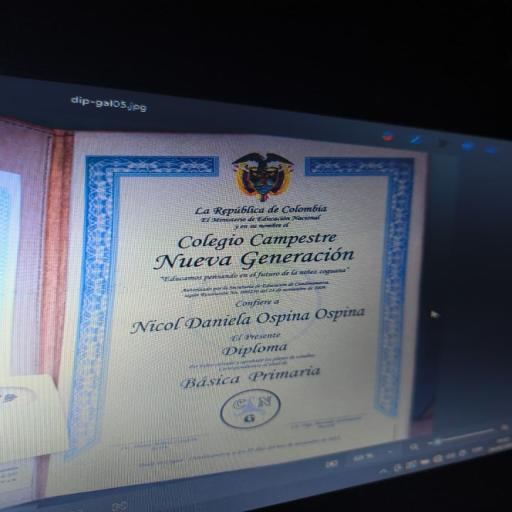bachillerato: (152, 357, 337, 397)
diploma: (47, 134, 425, 495)
escudo: (209, 151, 303, 209)
institucion: (135, 219, 365, 276)
nombre: (114, 297, 377, 345)
